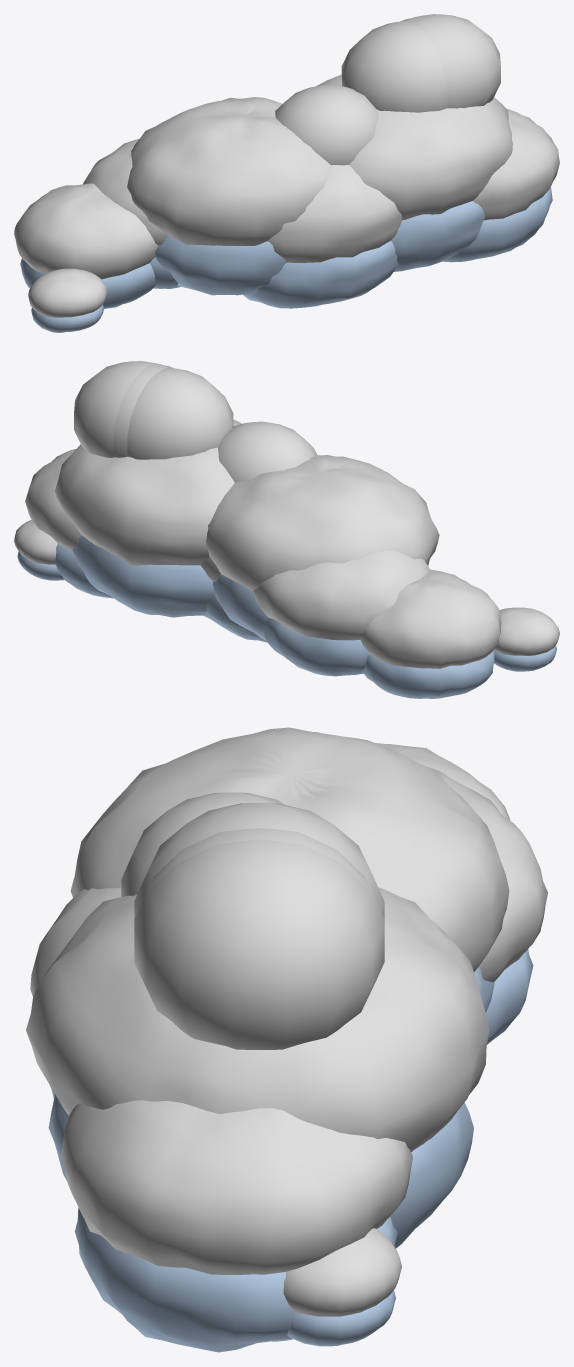
File: cloud-d.glb
The picture shows the model from 3 angles, top to bottom: view 1: azimuth 30°, elevation 25°; view 2: azimuth 150°, elevation 25°; view 3: azimuth 270°, elevation 25°; orthographic projection. The views are drawn at different scales.
Visible parts, largest first — view 1: cloud puff.003, cloud puff.005, cloud puff.001, cloud puff.004, cloud cap.001, cloud cap.003, cloud belly.004, cloud belly.003, cloud puff.006, cloud belly.005, cloud cap, cloud puff (+6 smaller); view 2: cloud puff.003, cloud puff.005, cloud puff.001, cloud puff.002, cloud cap.001, cloud belly.005, cloud cap.003, cloud cap, cloud belly.001, cloud belly.002, cloud puff.006, cloud puff (+7 smaller); view 3: cloud puff.005, cloud puff.006, cloud cap, cloud puff.003, cloud belly.006, cloud puff.007, cloud puff.002, cloud cap.001, cloud belly.005, cloud cap.003, cloud belly.007, cloud cap.002 (+3 smaller).
Boxes of the visible parts, left/top/right/bottom form: cloud puff.003: left=127, top=97, right=331, bottom=245; cloud puff.005: left=316, top=74, right=512, bottom=219; cloud puff.001: left=14, top=183, right=158, bottom=279; cloud puff.004: left=268, top=165, right=402, bottom=262; cloud cap.001: left=341, top=20, right=447, bottom=112; cloud cap.003: left=275, top=85, right=378, bottom=165; cloud belly.004: left=243, top=241, right=398, bottom=308; cloud belly.003: left=155, top=236, right=286, bottom=295; cloud puff.006: left=473, top=109, right=559, bottom=220; cloud belly.005: left=390, top=201, right=485, bottom=271; cloud cap: left=413, top=14, right=500, bottom=108; cloud puff: left=28, top=268, right=107, bottom=317; cloud puff.003: left=206, top=455, right=439, bottom=590; cloud puff.005: left=55, top=419, right=242, bottom=565; cloud puff.001: left=360, top=569, right=501, bottom=668; cloud puff.002: left=253, top=550, right=430, bottom=640; cloud cap.001: left=127, top=367, right=233, bottom=459; cloud belly.005: left=72, top=535, right=214, bottom=617; cloud cap.003: left=218, top=421, right=316, bottom=482; cloud cap: left=74, top=361, right=161, bottom=457; cloud belly.001: left=362, top=649, right=495, bottom=698; cloud belly.002: left=262, top=618, right=369, bottom=676; cloud puff.006: left=25, top=448, right=81, bottom=550; cloud puff: left=495, top=607, right=559, bottom=655; cloud puff.005: left=26, top=887, right=489, bottom=1151; cloud puff.006: left=60, top=1100, right=412, bottom=1274; cloud cap: left=134, top=839, right=384, bottom=1049; cloud puff.003: left=70, top=727, right=509, bottom=972; cloud belly.006: left=75, top=1208, right=397, bottom=1352; cloud puff.007: left=283, top=1228, right=401, bottom=1316; cloud puff.002: left=438, top=770, right=547, bottom=982; cloud cap.001: left=134, top=803, right=384, bottom=918; cloud belly.005: left=48, top=1094, right=473, bottom=1248; cloud cap.003: left=121, top=792, right=285, bottom=896; cloud belly.007: left=287, top=1290, right=395, bottom=1346; cloud cap.002: left=134, top=828, right=384, bottom=925.
Bounding box in the file's own units: 26.17 × 11.25 × 11.45.
